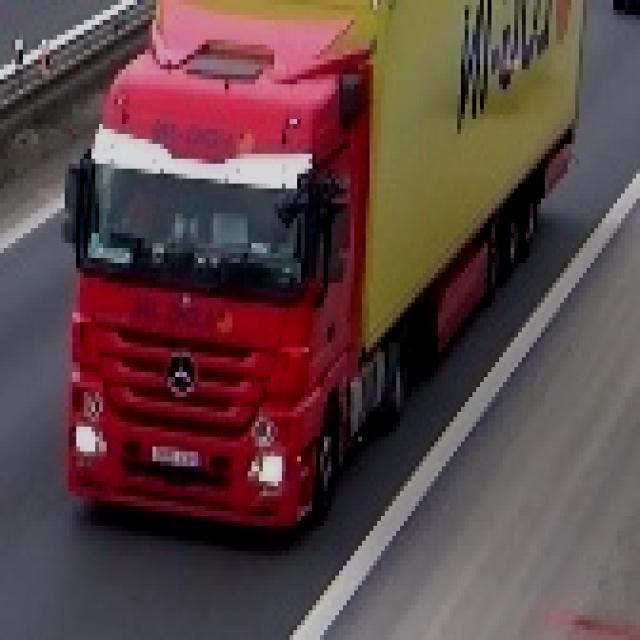TRUCK: (69, 0, 585, 533)
